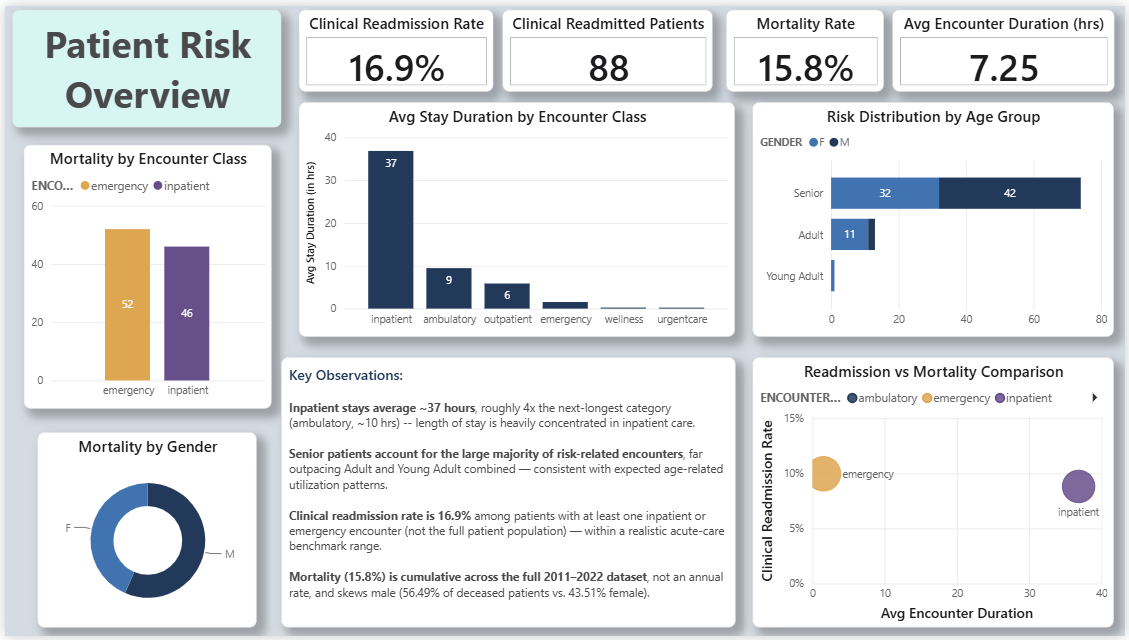

The page's visual inventory and layout, read from the dashboard file:
{"tool":"powerbi","page":{"name":"Patient Risk","canvas":[1280,720],"ordinal":2},"visuals":[{"type":"cardVisual","title":"Clinical Readmission Rate","fields":{"Data":["encounters.Clinical Readmission Rate"]},"box":[336.4,3.9,222.1,93.5],"z":0},{"type":"cardVisual","title":"Clinical Readmitted Patients","fields":{"Data":["encounters.Clinical Readmitted Patients"]},"box":[569.2,4.2,240.3,93.5],"z":1000},{"type":"cardVisual","title":"Mortality Rate","fields":{"Data":["encounters.Mortality Rate"]},"box":[824.4,4.4,180,93.8],"z":2000},{"type":"cardVisual","title":"Avg Encounter Duration (hrs)","fields":{"Data":["encounters.Avg Encounter Duration"]},"box":[1014.3,3.9,253.2,93.5],"z":3000},{"type":"columnChart","title":"Mortality by Encounter Class","fields":{"Category":["encounters.ENCOUNTERCLASS"],"Series":["encounters.ENCOUNTERCLASS"],"Y":["encounters.Clinical Readmitted Patients"]},"box":[20.8,158.4,283.1,301.3],"z":4000},{"type":"donutChart","title":"Mortality by Gender","fields":{"Category":["patients.GENDER"],"Y":["encounters.Deceased Patients"]},"box":[37.7,487,250.6,223.4],"z":5000},{"type":"textbox","box":[8.3,4.2,307.5,134.2],"z":6000},{"type":"columnChart","title":"Avg Stay Duration by Encounter Class","fields":{"Category":["encounters.ENCOUNTERCLASS"],"Y":["encounters.Avg Encounter Duration"]},"box":[336.1,109.7,498.6,268.1],"z":7000},{"type":"barChart","title":"Risk Distribution by Age Group","fields":{"Category":["patients.Age Group"],"Series":["patients.GENDER"],"Y":["encounters.Clinical Readmitted Patients"]},"box":[854.2,109.7,412.5,268.1],"z":8000},{"type":"scatterChart","title":"Readmission vs Mortality Comparison","fields":{"Series":["encounters.ENCOUNTERCLASS"],"Size":["encounters.Clinical Readmitted Patients"],"X":["encounters.Avg Encounter Duration"],"Y":["encounters.Clinical Readmission Rate"]},"box":[854.5,401.3,413,309.1],"z":9000},{"type":"textbox","box":[315.6,401.3,519.5,309.1],"z":9001}]}

Visuals, with their boxes in screenshot pixels (x1, y1, x2, y2), scaled from the page's 1280x720 canvas onto the 1129x640 screenshot:
"Clinical Readmission Rate" cardVisual: (297, 3, 493, 87)
"Clinical Readmitted Patients" cardVisual: (502, 4, 714, 87)
"Mortality Rate" cardVisual: (727, 4, 886, 87)
"Avg Encounter Duration (hrs)" cardVisual: (895, 3, 1118, 87)
"Mortality by Encounter Class" columnChart: (18, 141, 268, 409)
"Mortality by Gender" donutChart: (33, 433, 254, 631)
textbox: (7, 4, 279, 123)
"Avg Stay Duration by Encounter Class" columnChart: (296, 98, 736, 336)
"Risk Distribution by Age Group" barChart: (753, 98, 1117, 336)
"Readmission vs Mortality Comparison" scatterChart: (754, 357, 1118, 631)
textbox: (278, 357, 737, 631)
